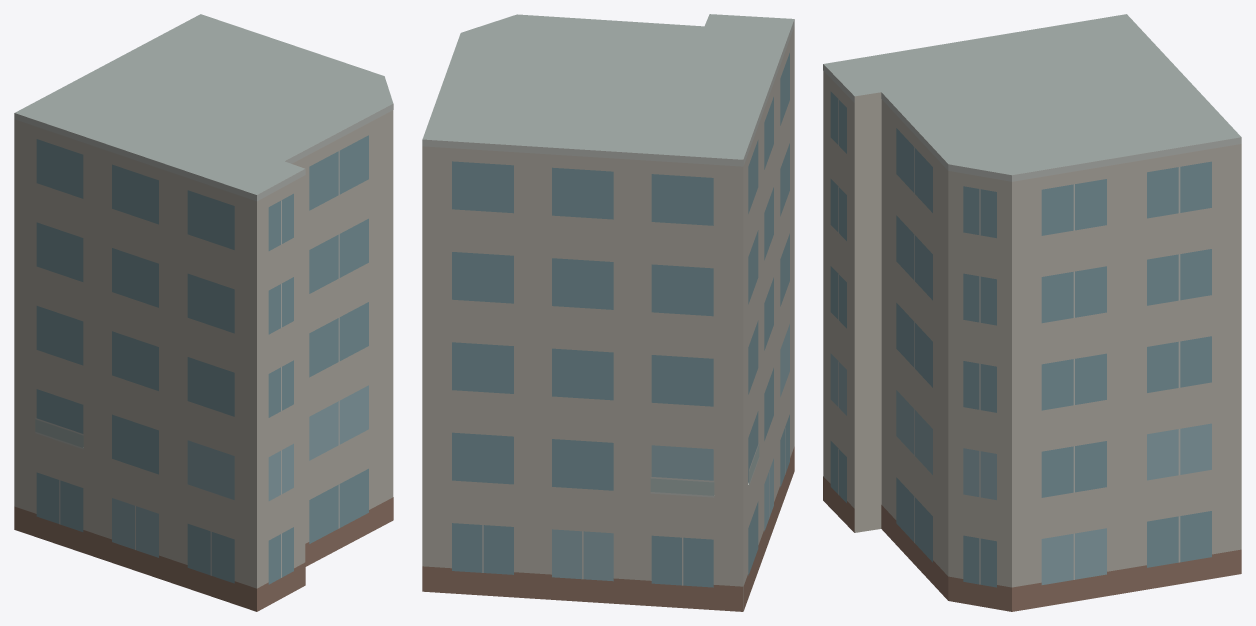
File: survey-upis-32940138.glb
The picture shows the model from 3 angles, left to right: view 1: azimuth 30°, elevation 25°; view 2: azimuth 150°, elevation 25°; view 3: azimuth 270°, elevation 25°; orthographic projection. The views are drawn at different scales.
Parts seen in each view (by area): view 1: survey-upis-32940138.tmp; view 2: survey-upis-32940138.tmp; view 3: survey-upis-32940138.tmp.
Boxes of the visible parts, x1,y1,x2,y2 form: survey-upis-32940138.tmp: [14, 14, 393, 611]; survey-upis-32940138.tmp: [422, 14, 794, 611]; survey-upis-32940138.tmp: [823, 14, 1241, 611].
Size of the model in its own units: 12.76 by 16.1 by 13.99.
